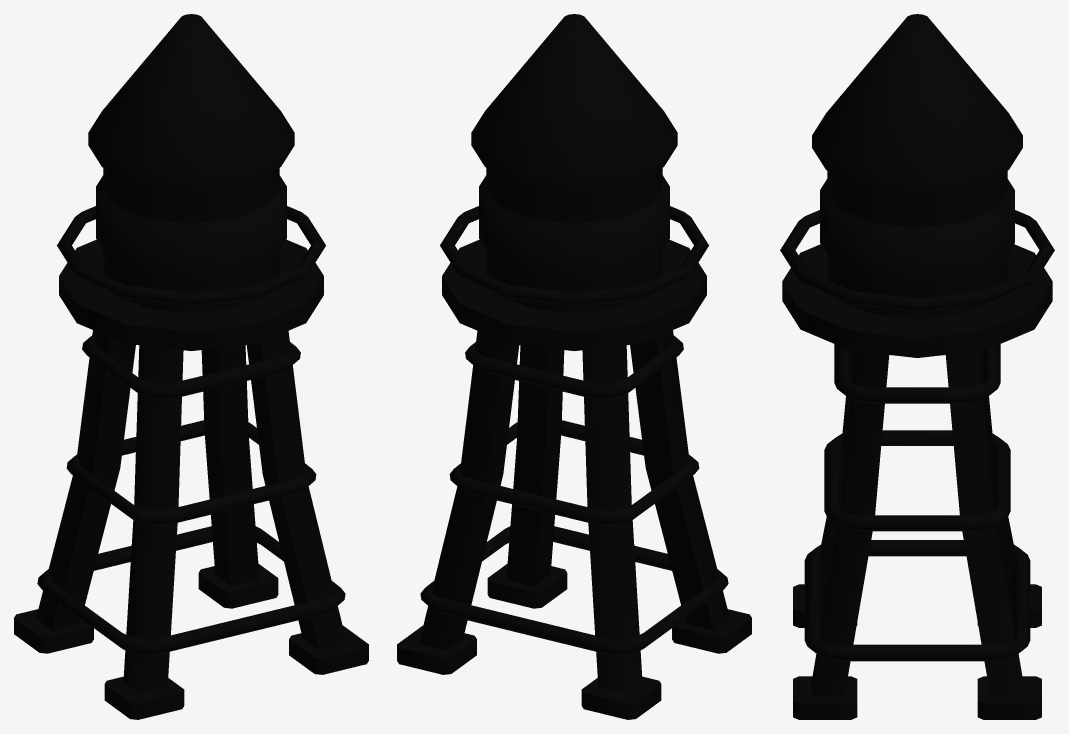
Rendered from water-tower.glb.
The picture shows the model from 3 angles, left to right: view 1: azimuth 30°, elevation 25°; view 2: azimuth 150°, elevation 25°; view 3: azimuth 270°, elevation 25°; orthographic projection. The views are drawn at different scales.
Visible parts, largest first — view 1: water-tower; view 2: water-tower; view 3: water-tower.
Boxes of the visible parts, x1,y1,x2,y2 form: water-tower: (14, 14, 368, 719); water-tower: (397, 14, 751, 719); water-tower: (780, 14, 1054, 719).
Bounding box in the file's own units: 0.8521 × 2.14 × 0.8317.
Materials: 1 (1 with a texture image).
